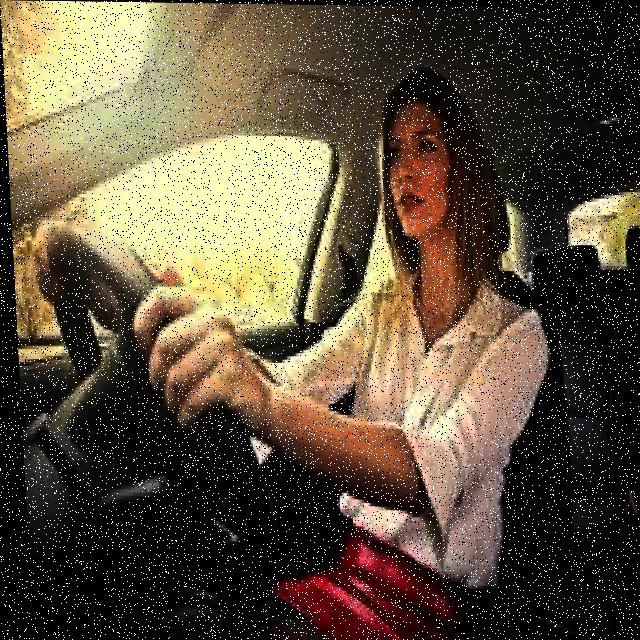noSeatbelt: (326, 271, 519, 562)
